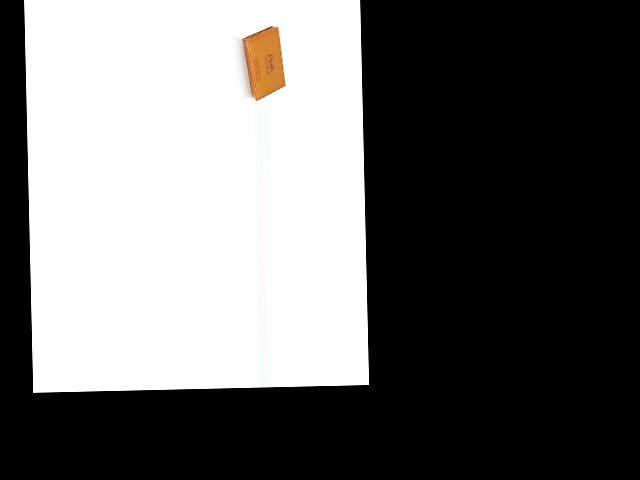chocolate: (235, 24, 288, 100)
